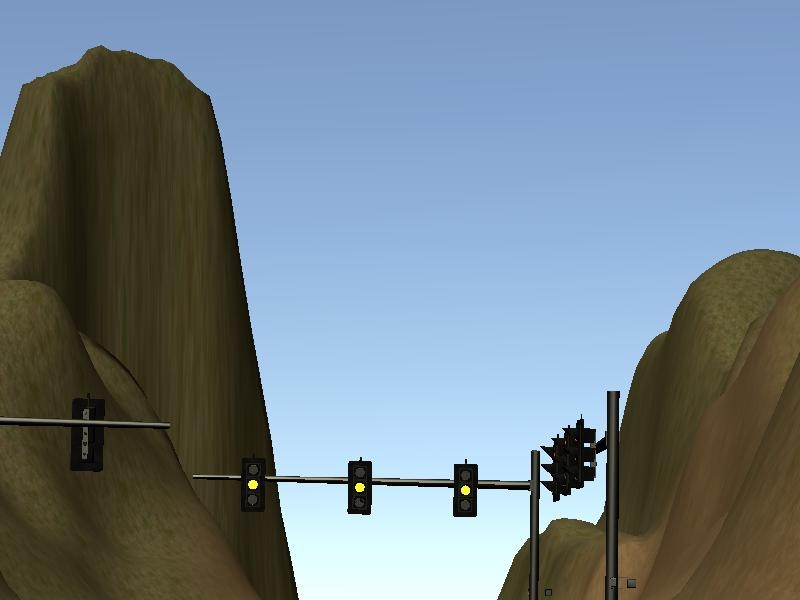yellow: (342, 455, 377, 518), (449, 455, 482, 521), (236, 452, 268, 513)
